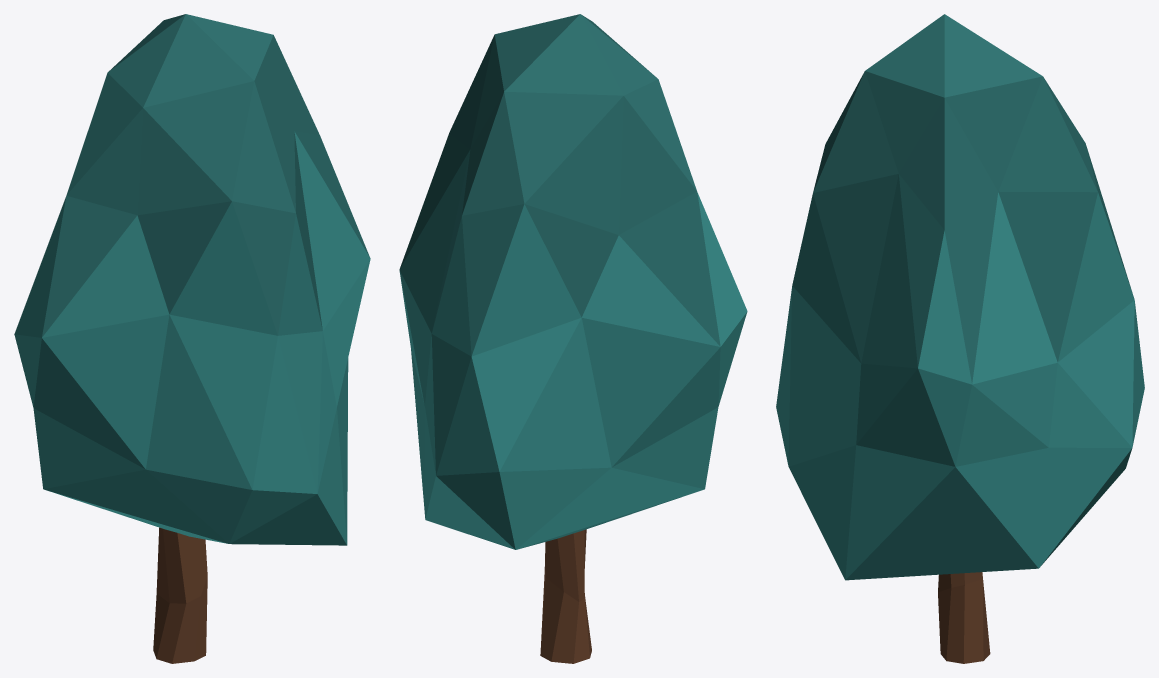
File: Tree_59_Blue.fbx
The picture shows the model from 3 angles, left to right: view 1: azimuth 30°, elevation 25°; view 2: azimuth 150°, elevation 25°; view 3: azimuth 270°, elevation 25°; orthographic projection. The views are drawn at different scales.
Visible parts, largest first — view 1: Tree_59_Blue_Part_1, Tree_59_Blue_Part_2; view 2: Tree_59_Blue_Part_1, Tree_59_Blue_Part_2; view 3: Tree_59_Blue_Part_1, Tree_59_Blue_Part_2.
Part boxes in pixels (x1,y1,x2,y2): Tree_59_Blue_Part_1: (14,14,370,545); Tree_59_Blue_Part_2: (153,527,207,663); Tree_59_Blue_Part_1: (399,14,747,549); Tree_59_Blue_Part_2: (540,529,591,663); Tree_59_Blue_Part_1: (776,14,1144,580); Tree_59_Blue_Part_2: (938,572,990,663).
Size of the model in its own units: 425 by 800 by 420.
